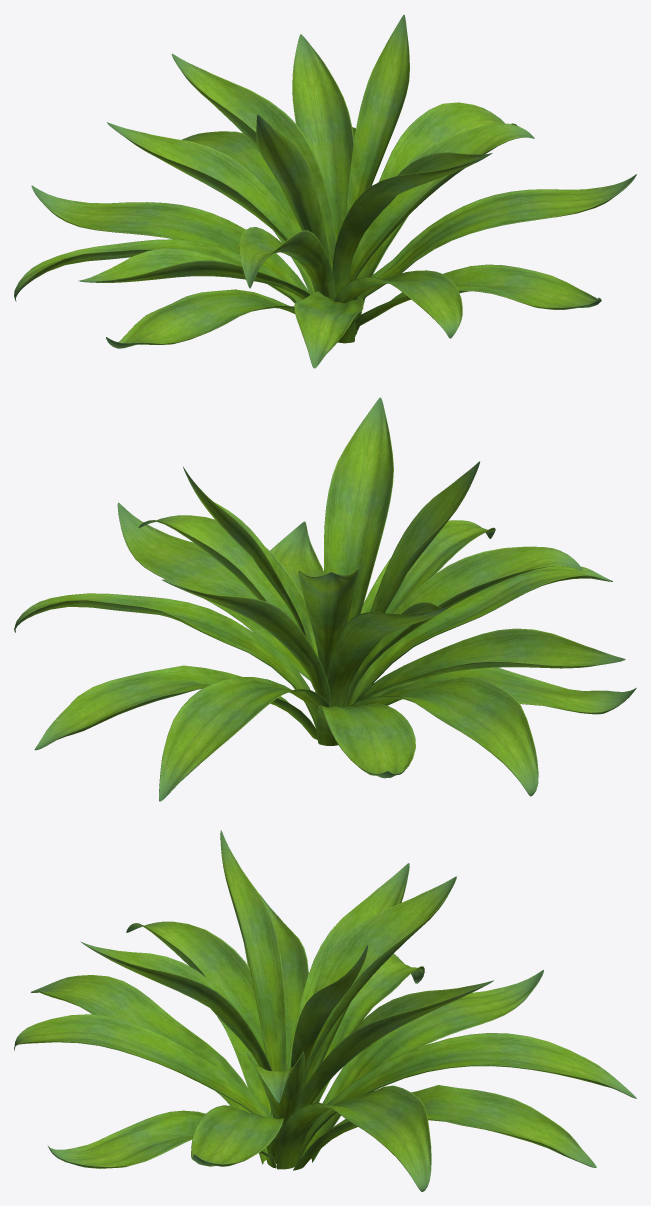
The model's file is grass.glb.
3 renders of one model, top to bottom at view 1: azimuth 30°, elevation 25°; view 2: azimuth 150°, elevation 25°; view 3: azimuth 270°, elevation 25°, orthographic. The views are drawn at different scales.
Parts seen in each view (by area): view 1: Archmodels61_001_00; view 2: Archmodels61_001_00; view 3: Archmodels61_001_00.
Part boxes in pixels (x1=…): Archmodels61_001_00: x1=14, y1=14, x2=636, y2=368; Archmodels61_001_00: x1=14, y1=397, x2=636, y2=801; Archmodels61_001_00: x1=14, y1=830, x2=636, y2=1191.
Bounding box in the file's own units: 1.04 × 0.5099 × 1.04.
1 material, 1 textured.
